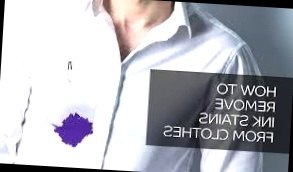ink: (56, 114, 92, 146)
